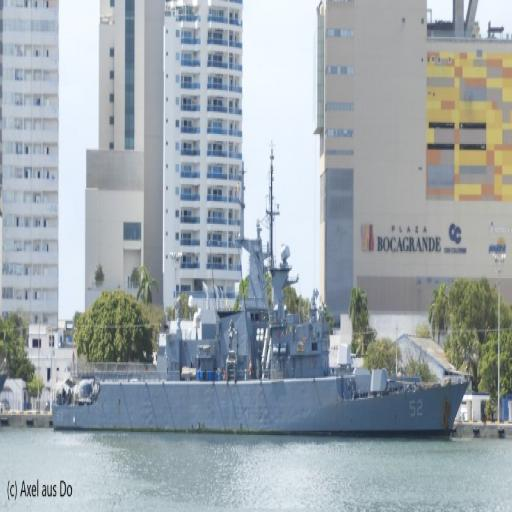Fragata: (48, 148, 473, 439)
